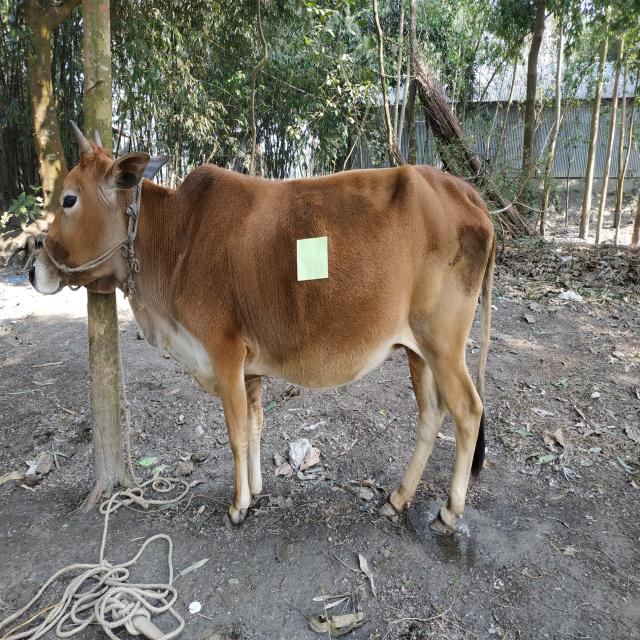badan_sapi: (213, 174, 475, 393)
sapi: (25, 117, 502, 548)
